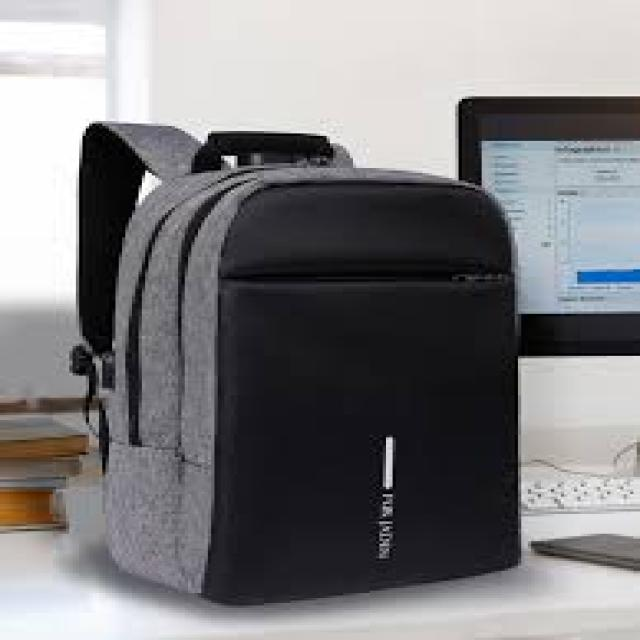backpack: (71, 120, 523, 607)
